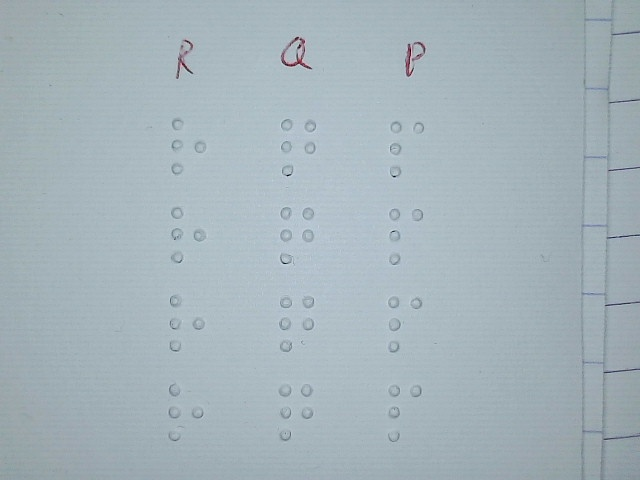P: (389, 118, 425, 178), (388, 206, 424, 266), (387, 382, 423, 442), (387, 294, 423, 352)
Q: (281, 116, 317, 176), (279, 204, 315, 264), (279, 293, 315, 353), (278, 381, 314, 441)
R: (168, 292, 205, 352), (167, 381, 204, 441), (171, 116, 207, 176), (170, 204, 206, 264)
